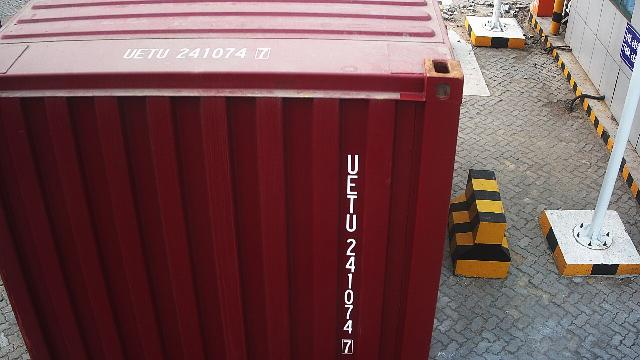0: (344, 289, 354, 304)
1: (347, 273, 353, 289)
2: (346, 238, 356, 256)
4: (345, 255, 355, 272), (343, 320, 353, 334)
7: (344, 304, 354, 320), (342, 340, 352, 354)
E: (347, 175, 358, 195)
T: (347, 194, 358, 214)
U: (347, 154, 359, 174), (346, 214, 356, 232)
